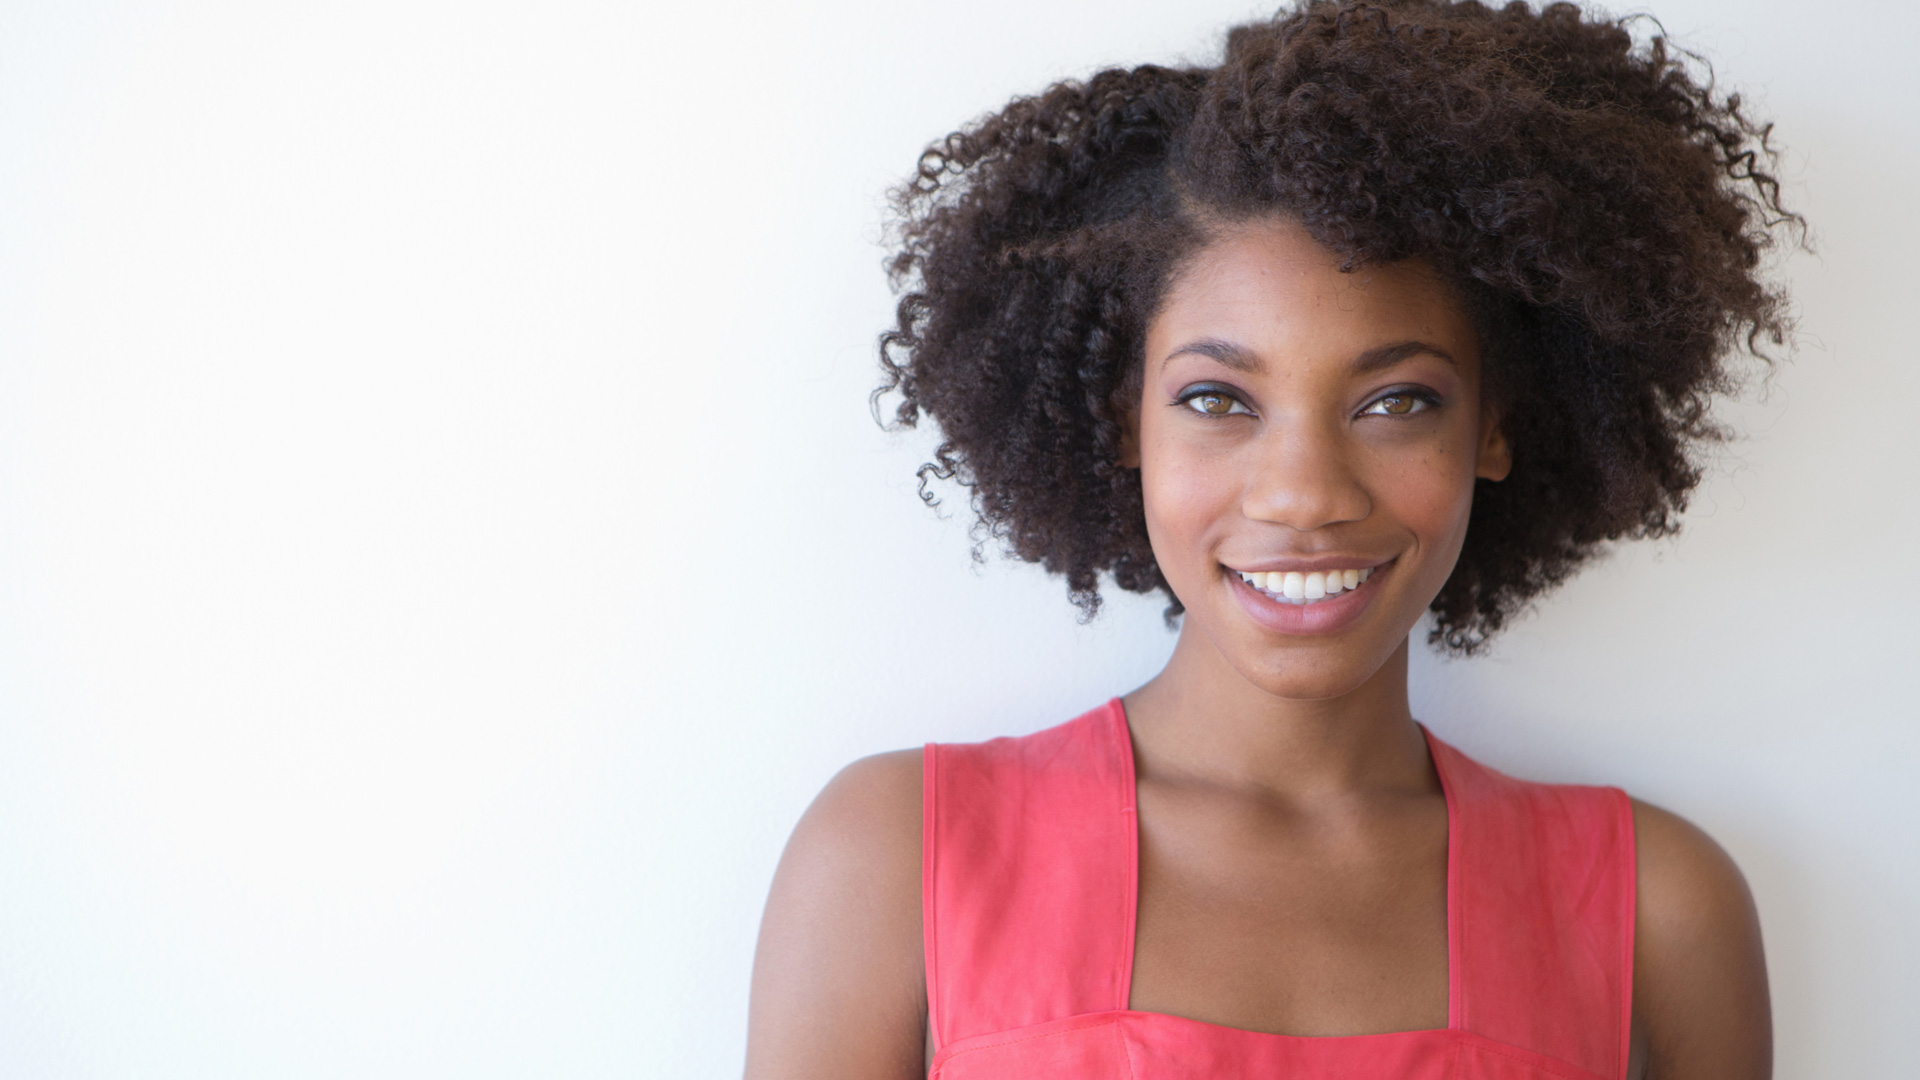bare: (1142, 448, 1467, 701)
